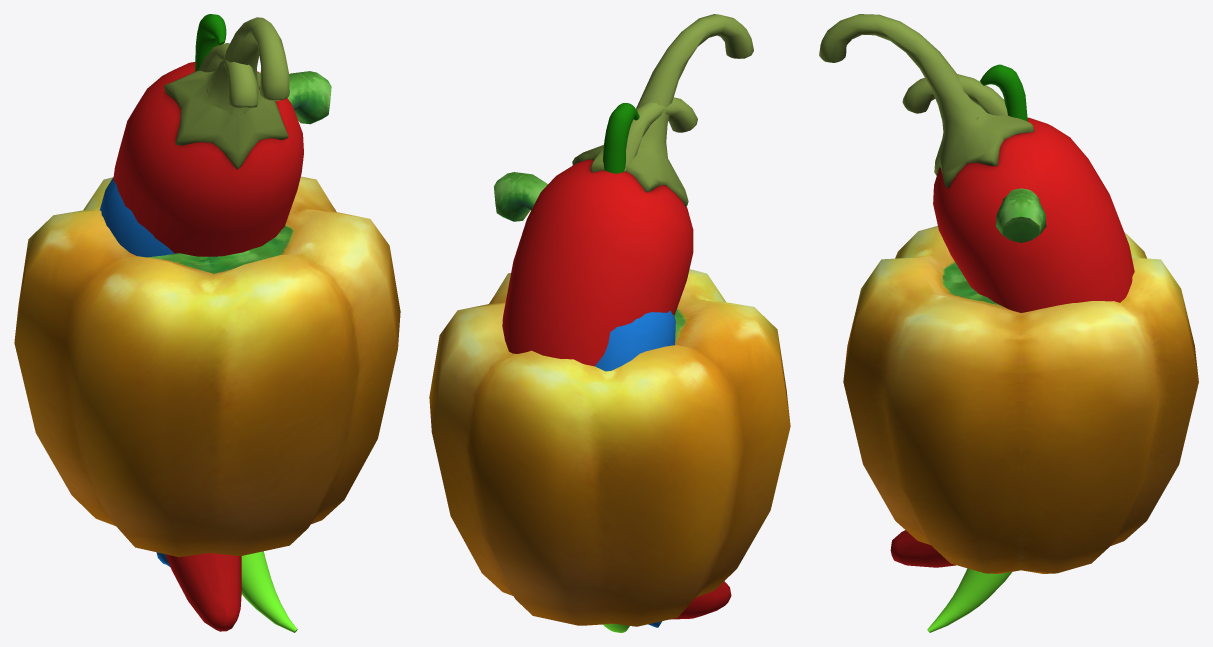
File: chillis.fbx
The picture shows the model from 3 angles, left to right: view 1: azimuth 30°, elevation 25°; view 2: azimuth 150°, elevation 25°; view 3: azimuth 270°, elevation 25°; orthographic projection. The views are drawn at different scales.
Visible parts, largest first — view 1: Golden-chilli, Red-chili, Blue-chili, Green-chili; view 2: Golden-chilli, Red-chili, Blue-chili, Green-chili; view 3: Golden-chilli, Red-chili, Green-chili, Blue-chili.
Part boxes in pixels (left/top/right/bottom): Golden-chilli: left=14, top=71, right=400, bottom=557; Red-chili: left=113, top=17, right=303, bottom=631; Blue-chili: left=100, top=43, right=258, bottom=566; Green-chili: left=195, top=14, right=297, bottom=632; Golden-chilli: left=429, top=172, right=790, bottom=626; Red-chili: left=502, top=14, right=753, bottom=619; Blue-chili: left=595, top=97, right=697, bottom=627; Green-chili: left=603, top=103, right=639, bottom=632; Golden-chilli: left=843, top=188, right=1198, bottom=573; Red-chili: left=819, top=14, right=1134, bottom=567; Green-chili: left=927, top=64, right=1027, bottom=632; Blue-chili: left=902, top=74, right=1007, bottom=115.
Bounding box in the file's own units: 4850 × 9291 × 5415.
6 materials, 4 textured.
